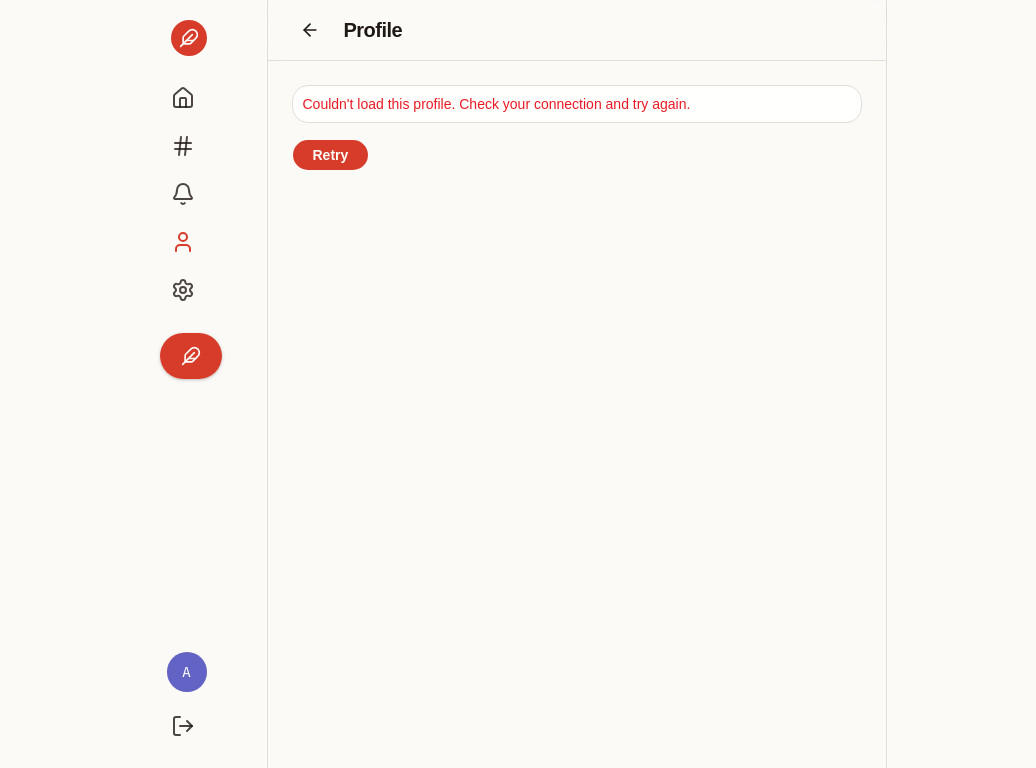
Test: Profile › shows a friendly error on a server failure and recovers on Retry
Expected: the message reads "Couldn't load this profile. Check your connection and try again.", [302,96,690,112]
Click the button "Retry". click: (330, 155)
box: [292,139,369,171]
(page scrolled)
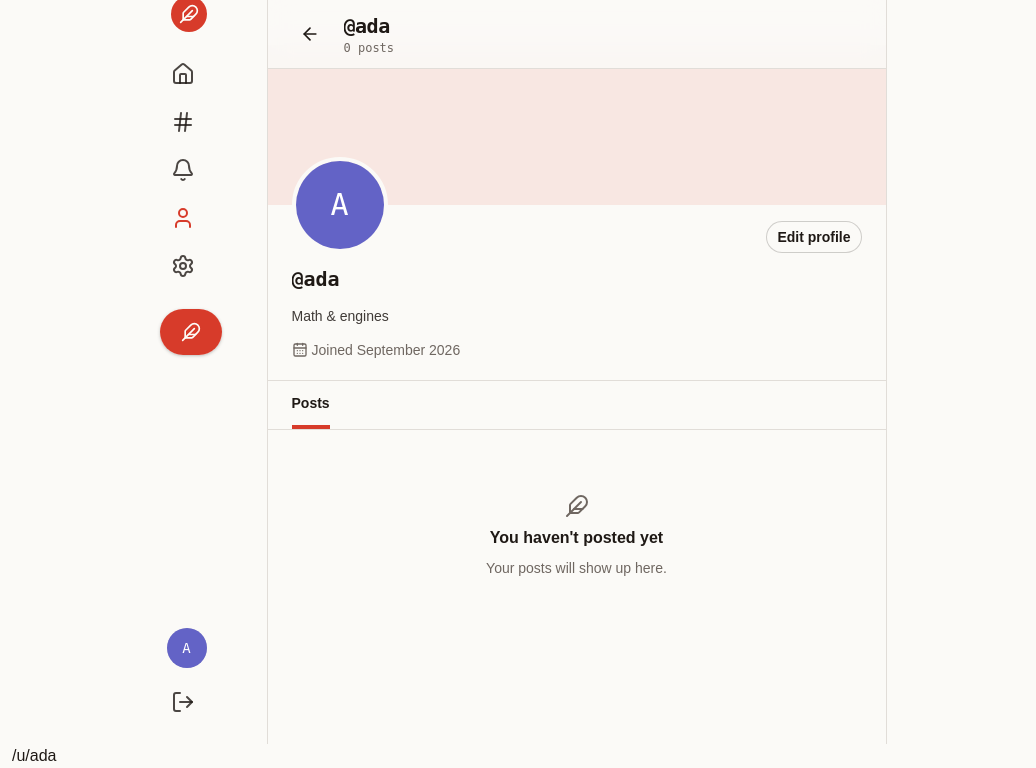
Now the heading "@ada" is shown, box [344,14,390,38]
Now the message "Couldn't load this profile. Check your connection and try again." is gone
Now the button "Retry" is gone
